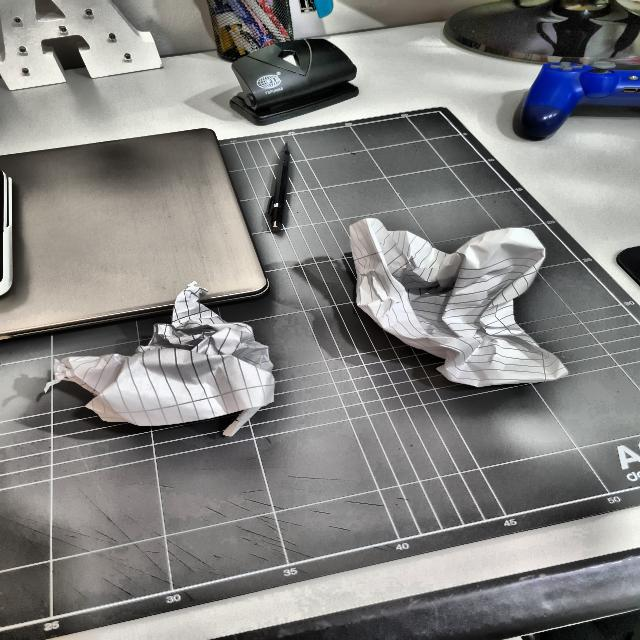Paper: (352, 216, 562, 393), (57, 292, 274, 436)
